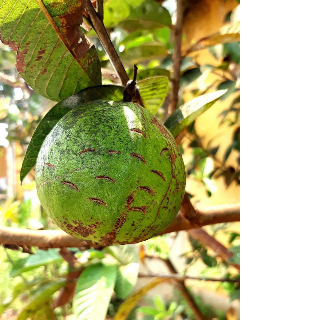oi: (30, 93, 188, 257)
